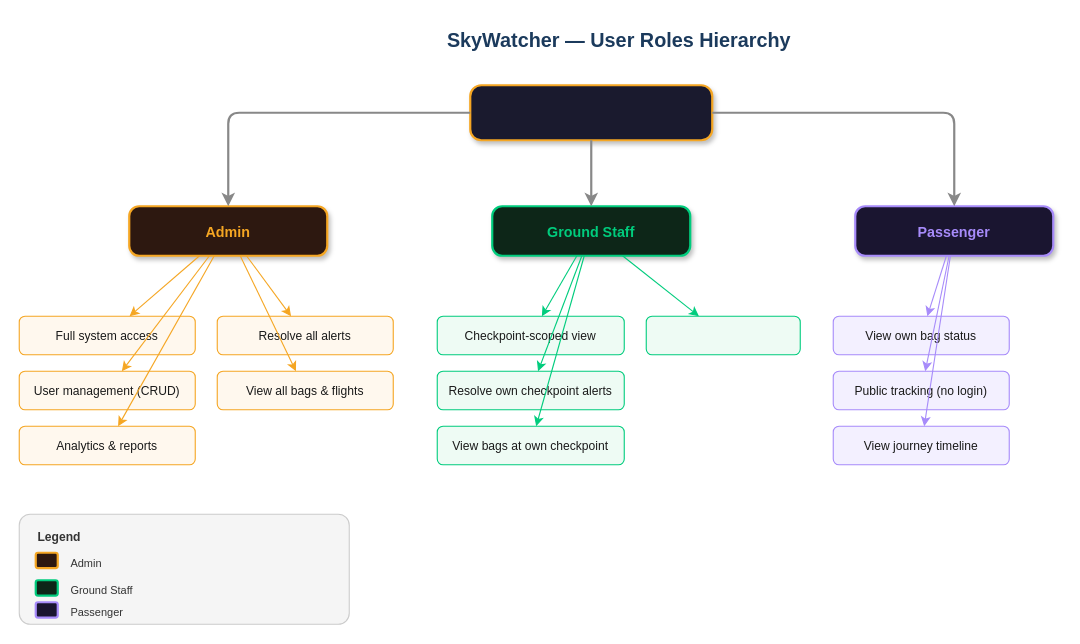
Image size: 1080x644. Some labels were removed from this diagram. The centre of each missing label's shape, as x and y in pixels:
"Live Map access" goes at [722,335].
"SkyWatcher Users" goes at [591,113].
